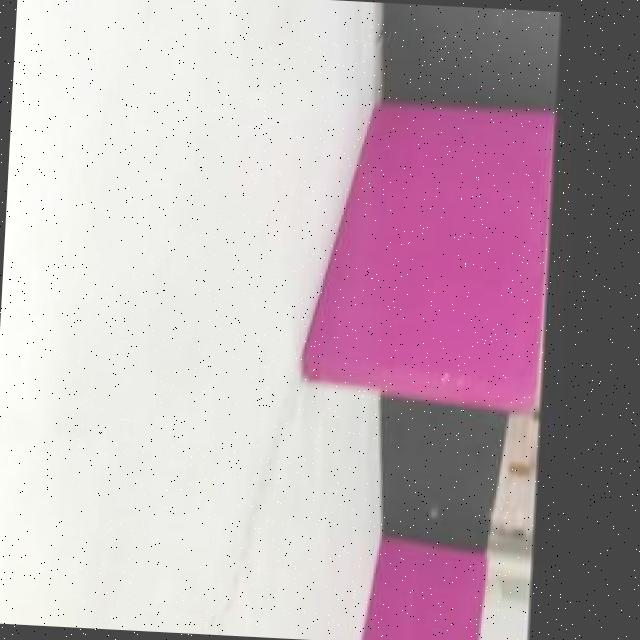xparking: (322, 112, 548, 398), (366, 550, 483, 640)
